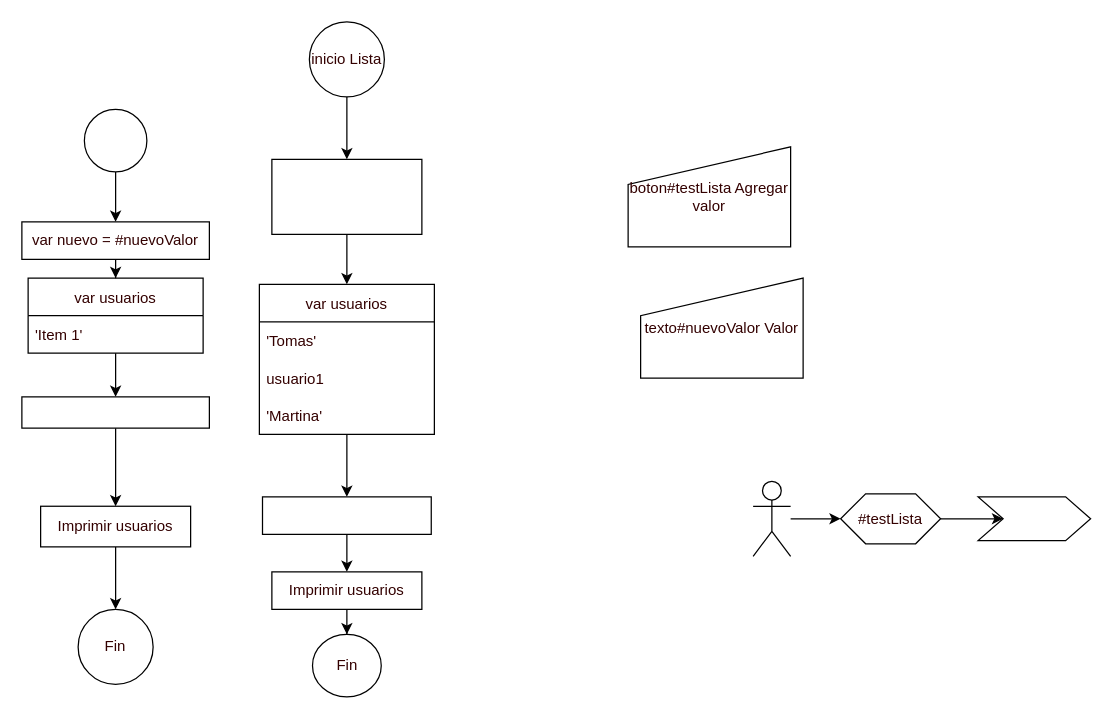
Some shapes in this 1113 by 719 pixel diagram are drawn without their labels. Here are the shapes that lost their labels. From the top down, the centre of each, then its label:
point (115, 140): inicio Lista2
point (346, 196): var usuario1 = 'Juan'
point (115, 412): usuarios.agregar(nuevo)
point (346, 515): usuarios.agregar('casa')
point (771, 518): click
point (1034, 518): Lista2
